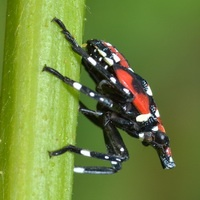insect: (43, 18, 175, 173)
